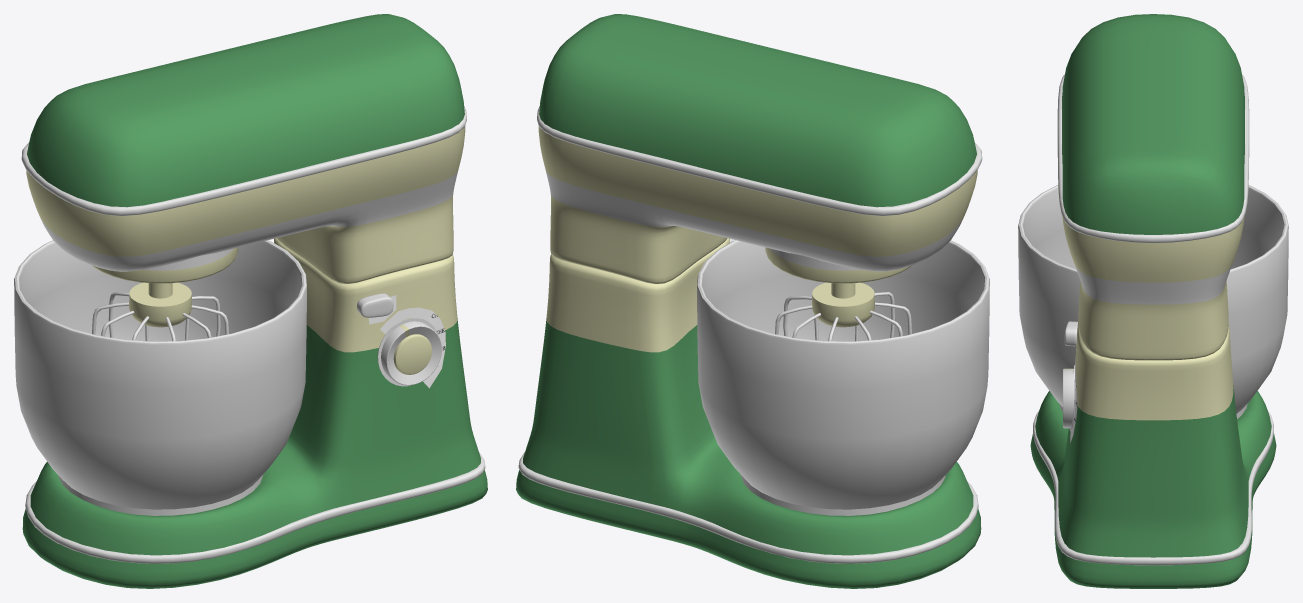
Rendered from StandMixer.fbx.
The picture shows the model from 3 angles, left to right: view 1: azimuth 30°, elevation 25°; view 2: azimuth 150°, elevation 25°; view 3: azimuth 270°, elevation 25°; orthographic projection. The views are drawn at different scales.
Parts seen in each view (by area): view 1: Cube, Cylinder, Cube.003, Cube.001, Cylinder.002, Cylinder.004, Cylinder.001, Plane.002, Plane, Cube.002; view 2: Cube, Cylinder, Cube.003, Cube.001, Cylinder.004, Cylinder.001, Plane.002; view 3: Cube, Cylinder, Cube.003, Cube.001, Cylinder.002.
Boxes of the visible parts, <box> form: Cube: <box>22,14,487,588</box>; Cylinder: <box>14,240,306,515</box>; Cube.003: <box>25,452,485,563</box>; Cube.001: <box>21,106,466,215</box>; Cylinder.002: <box>381,321,441,385</box>; Cylinder.004: <box>129,282,191,327</box>; Cylinder.001: <box>92,247,238,283</box>; Plane.002: <box>92,292,228,341</box>; Plane: <box>368,295,445,388</box>; Cube.002: <box>357,293,393,317</box>; Cube: <box>516,14,981,588</box>; Cylinder: <box>697,240,989,515</box>; Cube.003: <box>518,452,978,563</box>; Cube.001: <box>537,106,982,215</box>; Cylinder.004: <box>812,282,874,327</box>; Cylinder.001: <box>765,247,911,283</box>; Plane.002: <box>775,292,911,341</box>; Cube: <box>1030,14,1276,588</box>; Cylinder: <box>1018,185,1288,418</box>; Cube.003: <box>1033,411,1273,565</box>; Cube.001: <box>1057,74,1249,243</box>; Cylinder.002: <box>1063,368,1074,428</box>.
Bounding box in the file's own units: 624 × 629 × 376.
